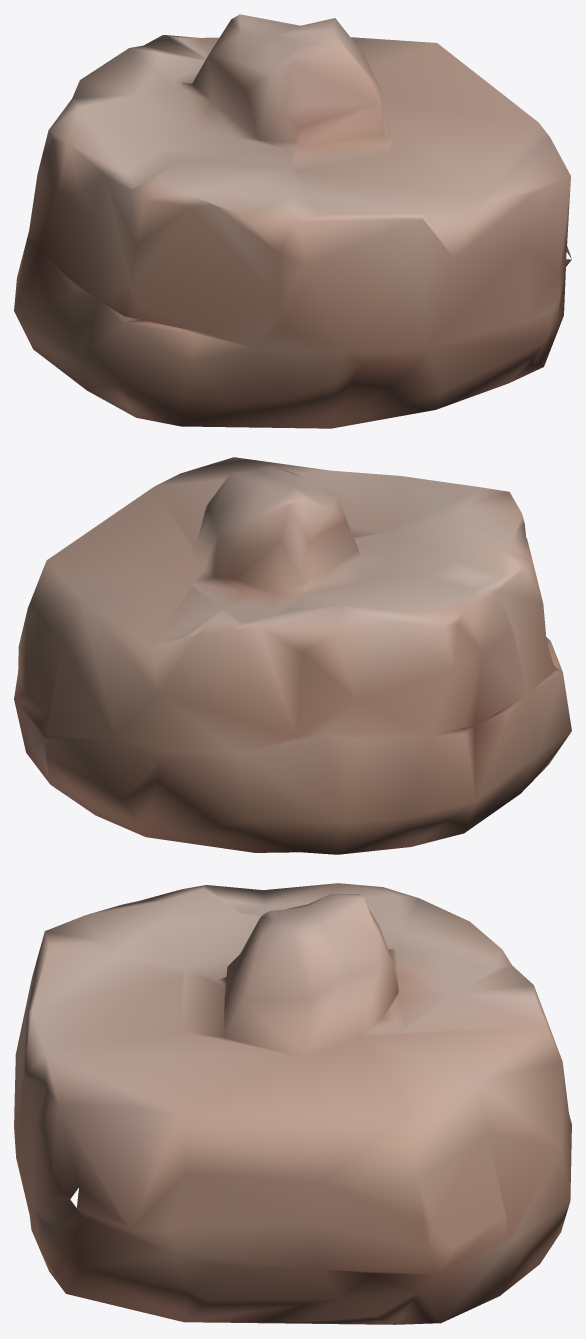
Rendered from redrock_far.glb.
3 renders of one model, top to bottom at view 1: azimuth 30°, elevation 25°; view 2: azimuth 150°, elevation 25°; view 3: azimuth 270°, elevation 25°, orthographic. The views are drawn at different scales.
Visible parts, largest first — view 1: redrock; view 2: redrock; view 3: redrock.
Part boxes in pixels (x1=…): redrock: x1=14, y1=14, x2=571, y2=428; redrock: x1=14, y1=457, x2=571, y2=854; redrock: x1=14, y1=883, x2=571, y2=1324.
Bounding box in the file's own units: 1.65 × 1 × 1.63.
